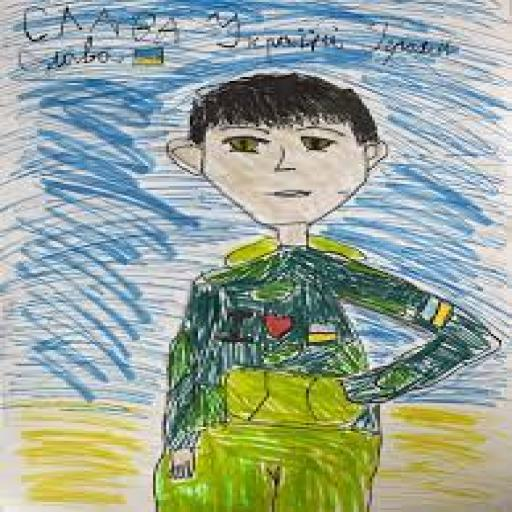person: (153, 68, 502, 512)
